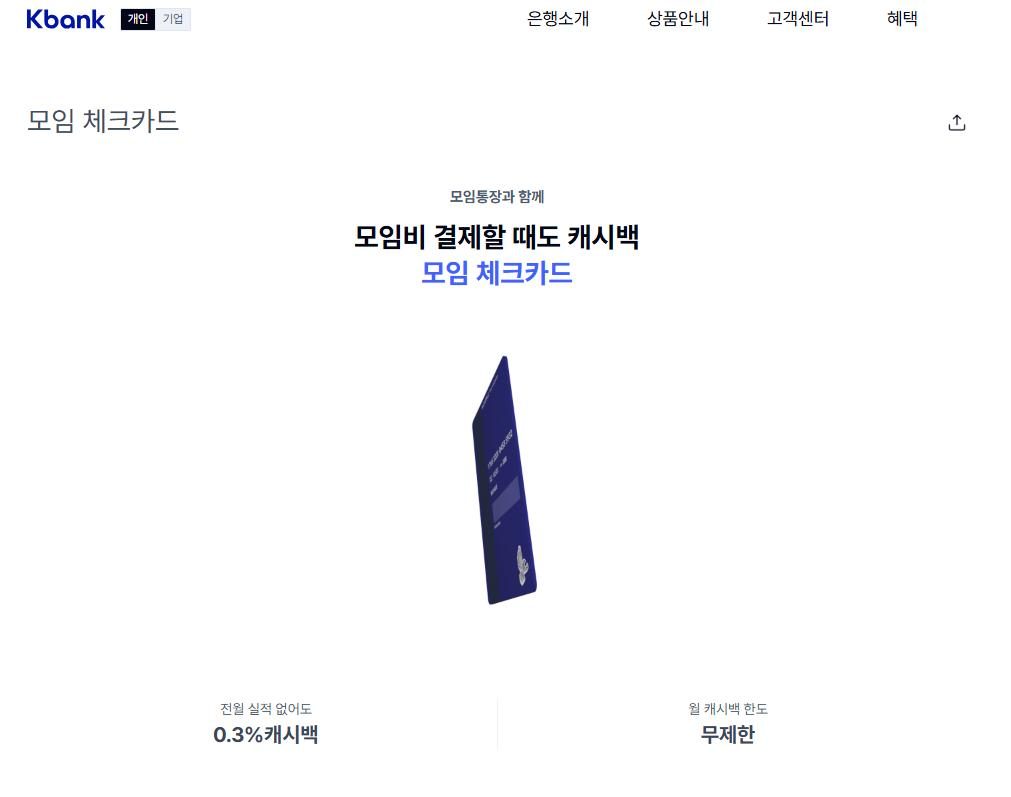button: (503, 0, 613, 44), (639, 0, 739, 44), (860, 0, 952, 43), (743, 0, 831, 40), (928, 100, 979, 141), (130, 9, 156, 32), (164, 12, 191, 31)
